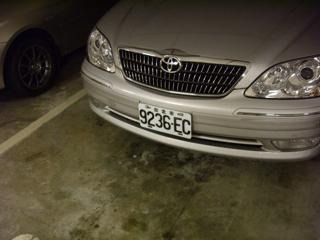plate: (137, 100, 193, 142)
